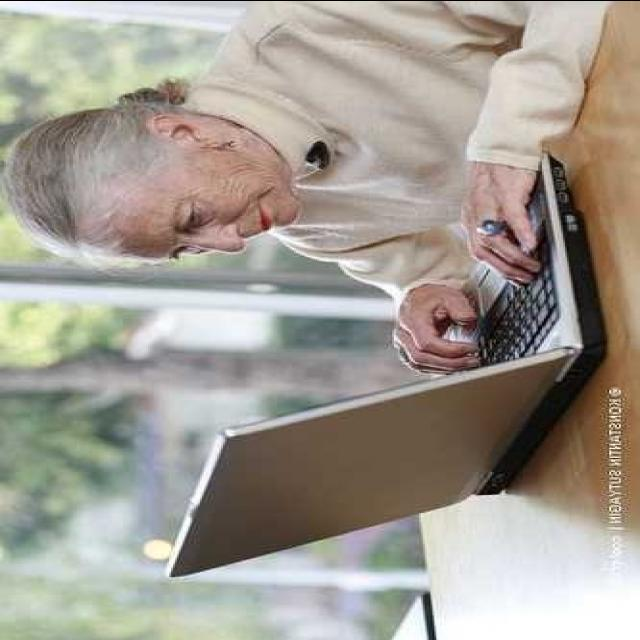laptop: (162, 171, 588, 603)
